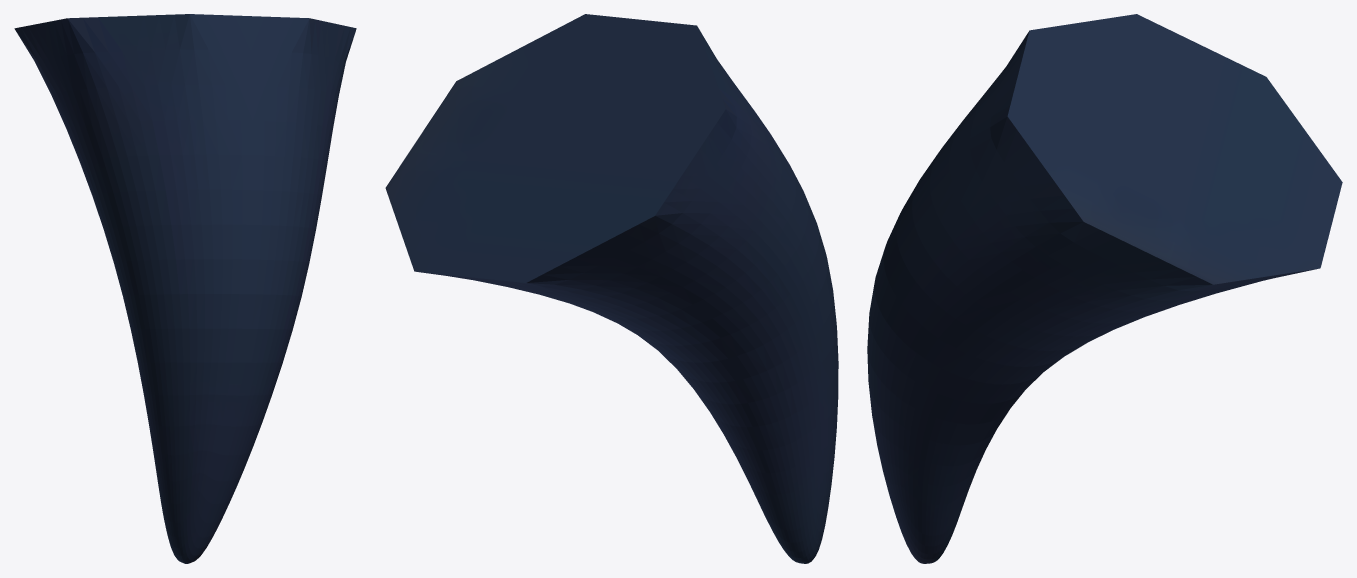
The model's file is WatcherKnightRightLeg.obj.
3 views of the same model, side by side, from view 1: azimuth 30°, elevation 25°; view 2: azimuth 150°, elevation 25°; view 3: azimuth 270°, elevation 25° (orthographic). The views are drawn at different scales.
Visible parts, largest first — view 1: Watcher_Knights.001; view 2: Watcher_Knights.001; view 3: Watcher_Knights.001.
Part boxes in pixels (box(x1,y1,x2,y2)): Watcher_Knights.001: box(14, 14, 356, 563); Watcher_Knights.001: box(385, 14, 838, 563); Watcher_Knights.001: box(867, 14, 1342, 563).
Bounding box in the file's own units: 2.99 × 5.16 × 3.98.
